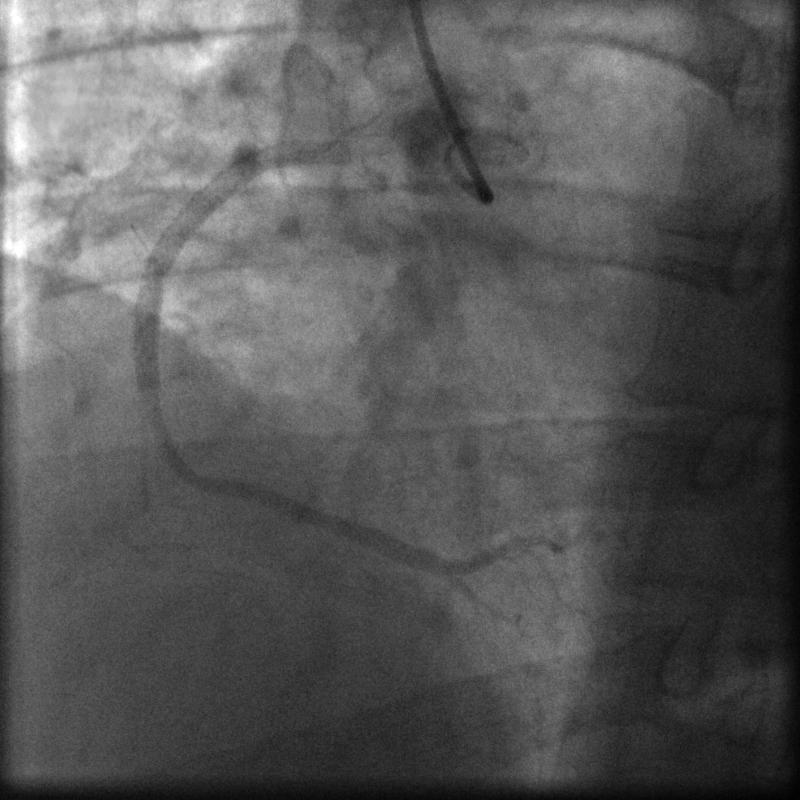Stenosis: (135, 380, 172, 454)
